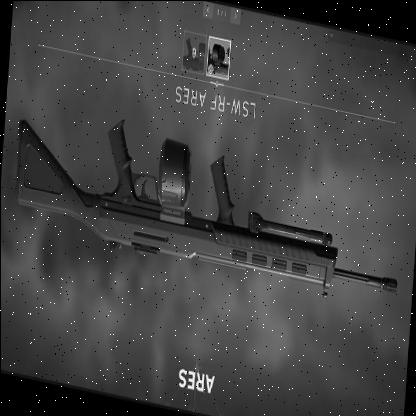rifle: (8, 88, 406, 312)
